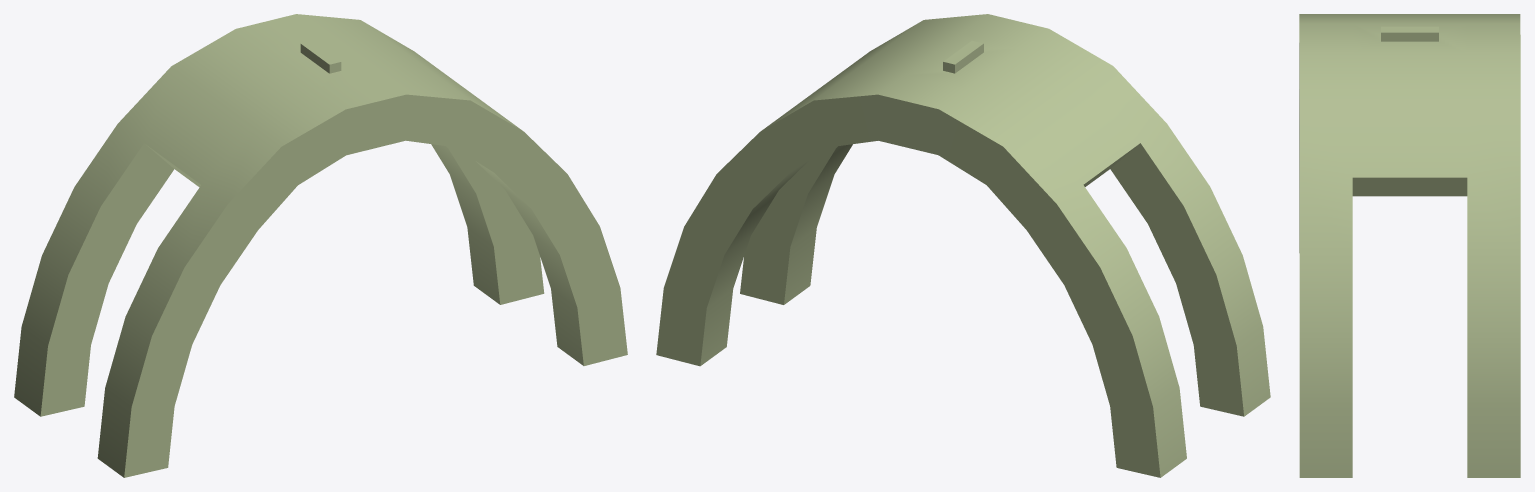
Rendered from Dinner_Table_Leg_Large.FBX.
The picture shows the model from 3 angles, left to right: view 1: azimuth 30°, elevation 25°; view 2: azimuth 150°, elevation 25°; view 3: azimuth 270°, elevation 25°; orthographic projection.
Parts seen in each view (by area): view 1: Dinner_Table_Leg_Large; view 2: Dinner_Table_Leg_Large; view 3: Dinner_Table_Leg_Large.
Part boxes in pixels (x1,y1,x2,y2): Dinner_Table_Leg_Large: [14, 14, 627, 477]; Dinner_Table_Leg_Large: [656, 14, 1270, 477]; Dinner_Table_Leg_Large: [1299, 14, 1520, 477].
Bounding box in the file's own units: 2.14 × 1.32 × 0.8108.
